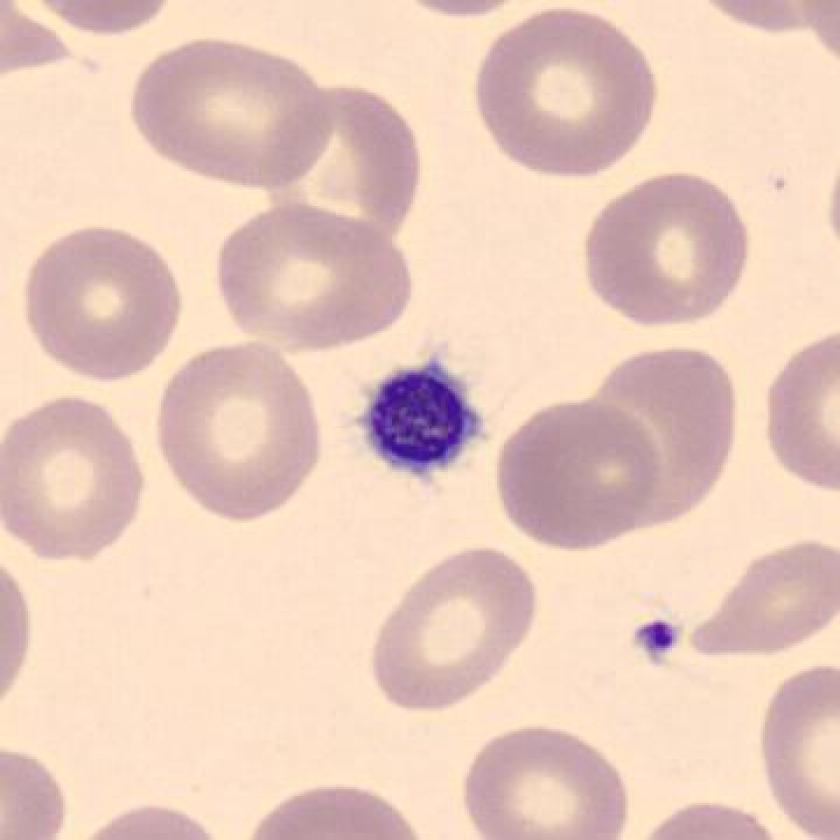platelets: (349, 350, 491, 494)
